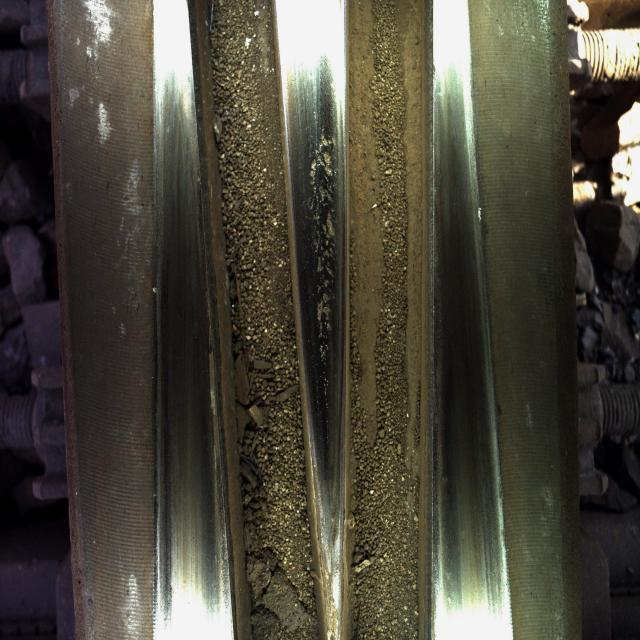break: (432, 101, 488, 574)
scar: (294, 49, 354, 392)
